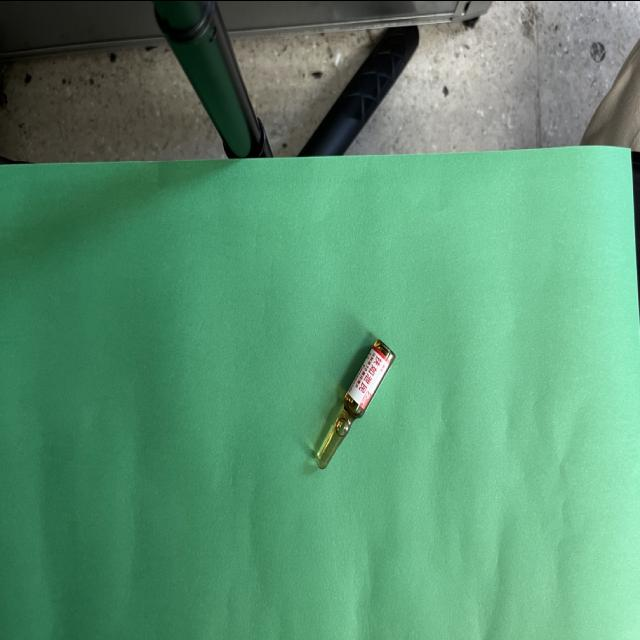Ampoules: (316, 338, 395, 467)
